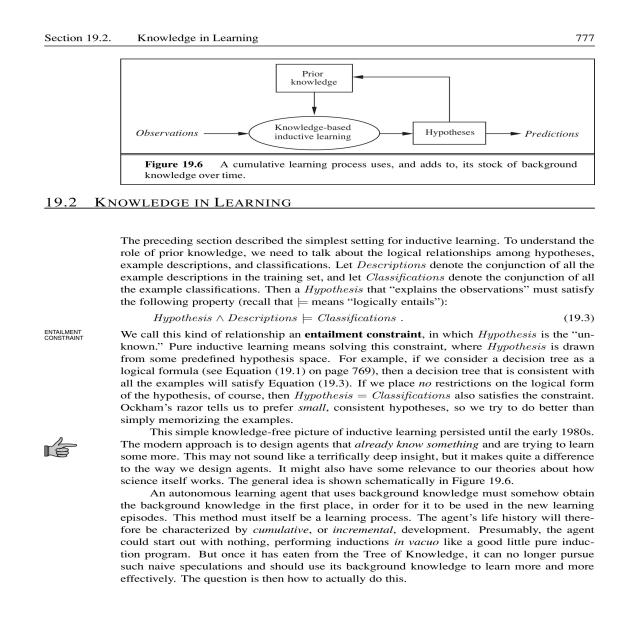diagram: (72, 50, 640, 189)
